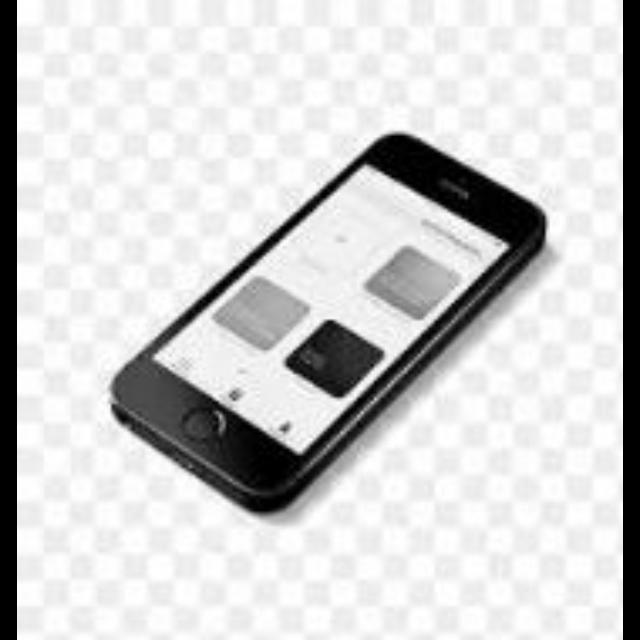fake: (96, 120, 554, 510)
